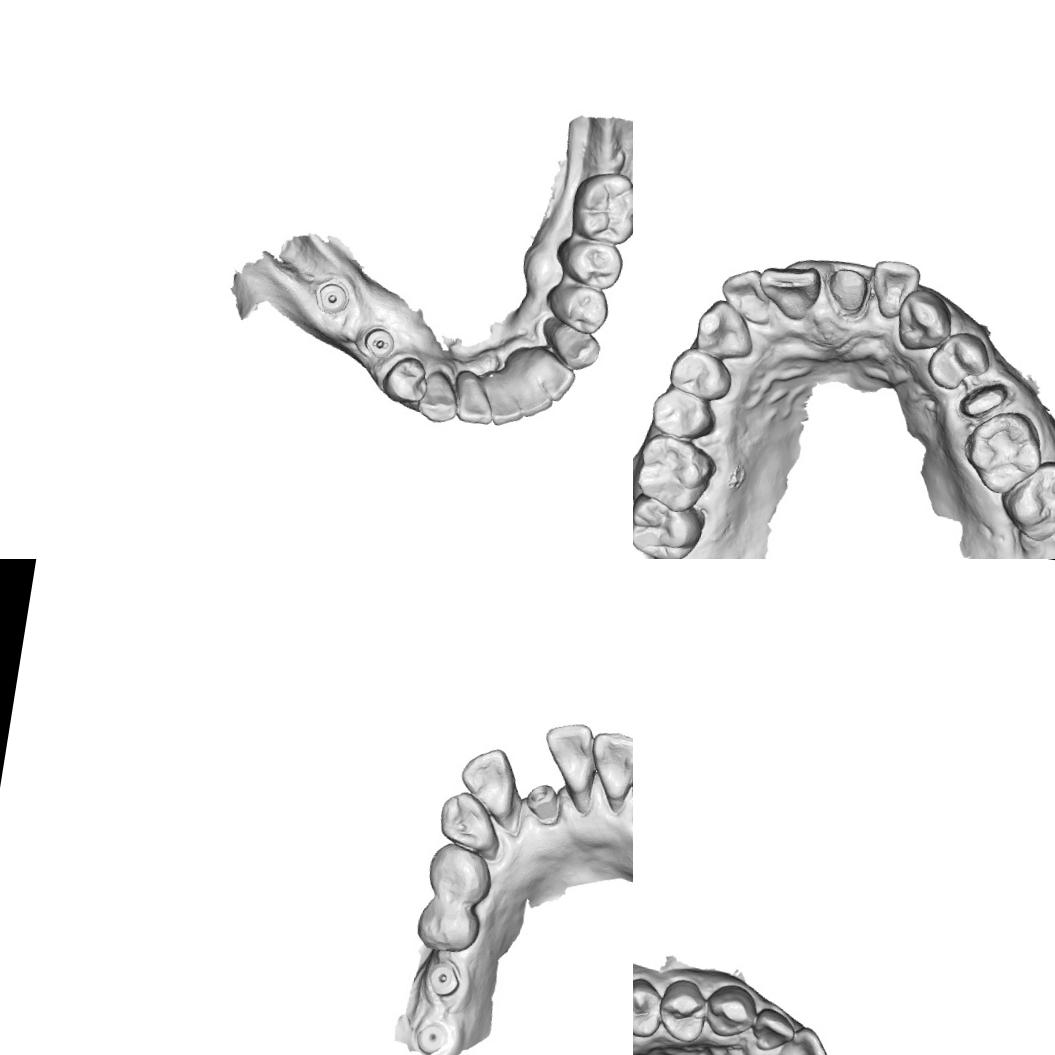canine: (432, 789, 505, 854), (691, 296, 760, 364), (893, 286, 957, 356), (701, 978, 757, 1042), (546, 322, 605, 375), (414, 366, 464, 426)
crown: (953, 373, 1014, 429), (822, 259, 872, 321)
implant: (520, 779, 564, 824), (410, 1010, 451, 1055), (423, 955, 465, 995), (311, 279, 352, 318)
implant_minus: (360, 324, 397, 362)
incisor: (454, 743, 522, 820), (535, 718, 598, 793), (754, 258, 824, 324), (715, 261, 777, 328), (583, 725, 633, 802), (866, 256, 922, 323), (748, 1003, 800, 1055), (505, 374, 557, 422), (451, 376, 499, 427), (774, 1021, 843, 1055), (479, 382, 528, 429), (533, 356, 579, 405)
molar: (957, 405, 1049, 500), (633, 427, 720, 517), (994, 453, 1055, 548), (566, 163, 633, 248), (633, 490, 708, 559)
premolar: (924, 326, 994, 396), (550, 232, 628, 294), (647, 382, 721, 444), (654, 974, 716, 1046), (540, 280, 614, 338), (424, 844, 492, 907), (665, 345, 736, 404), (412, 900, 487, 952), (378, 351, 432, 407), (633, 972, 668, 1042)
